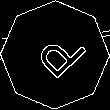P_SW: (24, 24, 86, 86)
